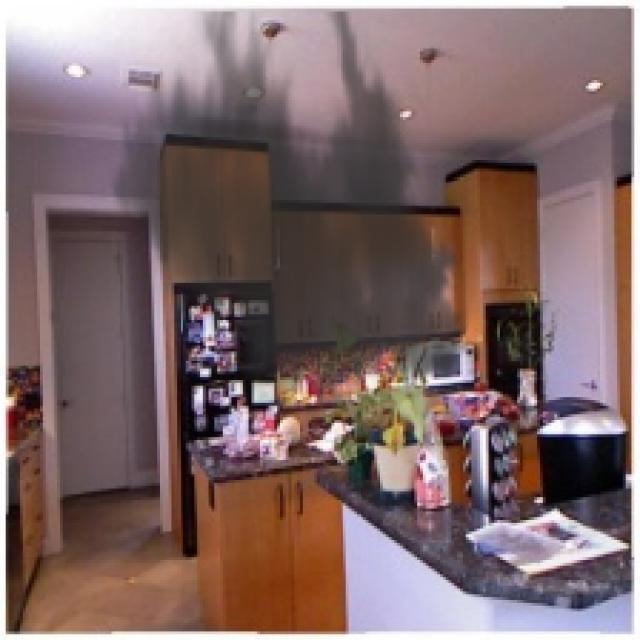Smoke: (100, 12, 486, 417)
